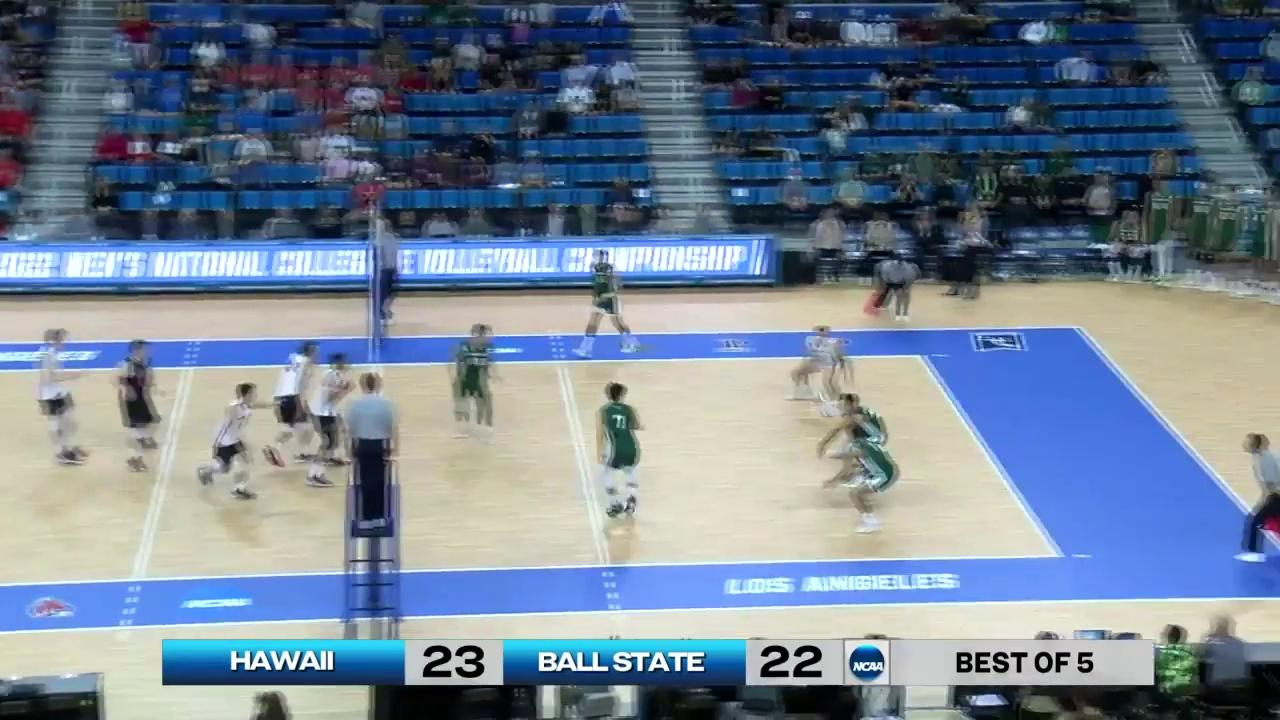player: (824, 425, 899, 535), (199, 384, 264, 501), (591, 383, 642, 525), (30, 326, 82, 462), (270, 338, 321, 469), (818, 397, 891, 485), (115, 339, 165, 467), (577, 251, 637, 357), (309, 354, 355, 489), (788, 326, 852, 411), (451, 325, 495, 440)
refree: (348, 374, 400, 524), (1239, 431, 1280, 566), (367, 219, 399, 326), (868, 257, 914, 317)
